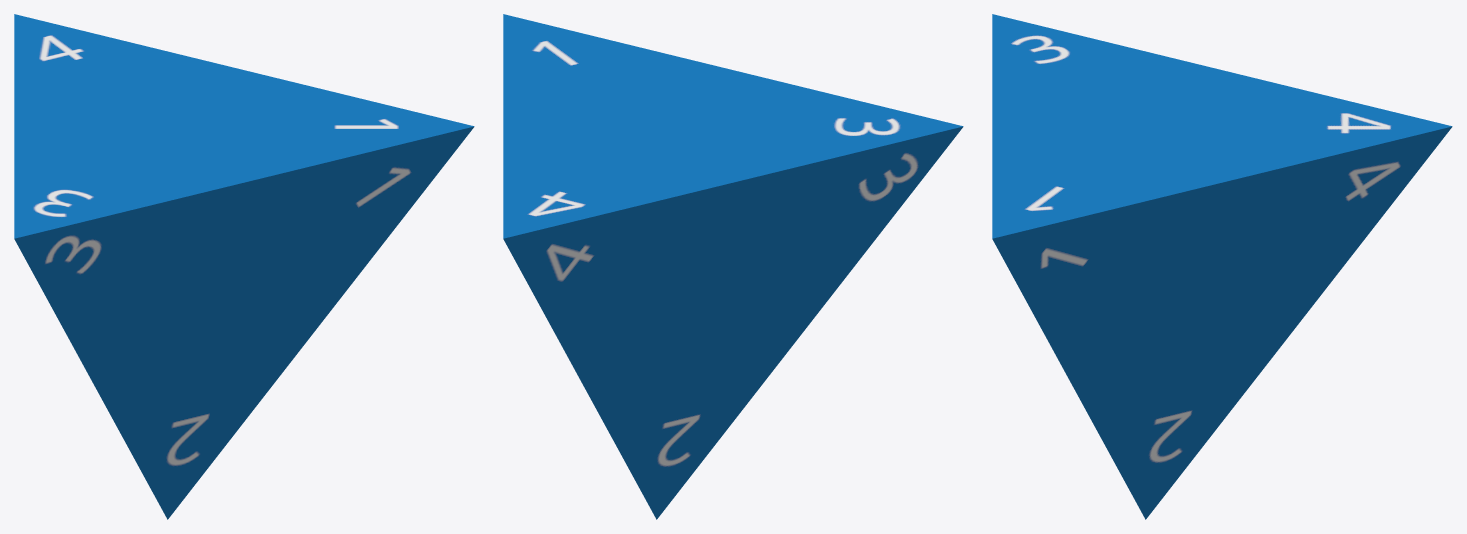
3 views of the same model, side by side, from view 1: azimuth 30°, elevation 25°; view 2: azimuth 150°, elevation 25°; view 3: azimuth 270°, elevation 25° (orthographic).
Parts seen in each view (by area): view 1: d4; view 2: d4; view 3: d4.
Part boxes in pixels (x1,y1,x2,y2): d4: [14, 14, 474, 519]; d4: [503, 14, 963, 519]; d4: [992, 14, 1452, 519].
Size of the model in its own units: 24.49 by 20 by 21.21.
1 material, 1 textured.
